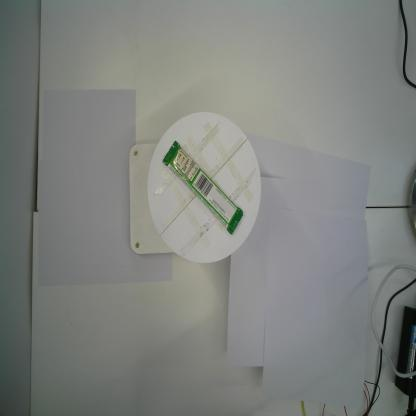Chocolate: (162, 140, 243, 236)
